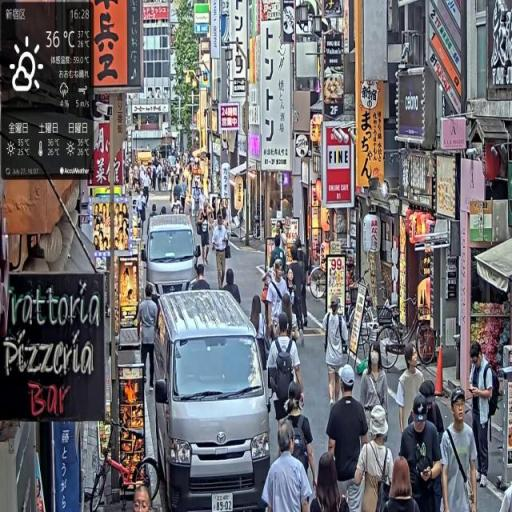person: (327, 366, 372, 510), (399, 387, 446, 512), (441, 386, 480, 512), (263, 420, 314, 512), (352, 406, 396, 512), (469, 340, 499, 490), (267, 313, 305, 419), (283, 387, 318, 497), (324, 300, 352, 407), (361, 344, 390, 442), (309, 446, 352, 512), (138, 282, 159, 392), (382, 457, 423, 512), (212, 214, 230, 291), (224, 269, 244, 308), (191, 265, 213, 291)
